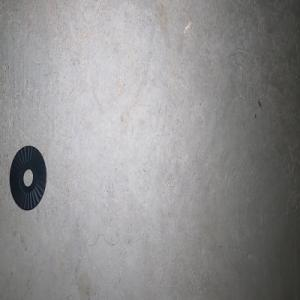Washer: (9, 145, 46, 210)
